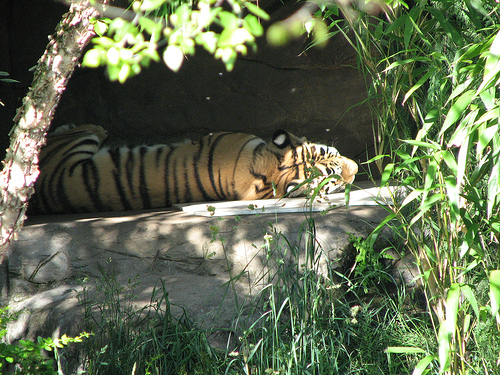Tigre: (62, 112, 370, 220)
